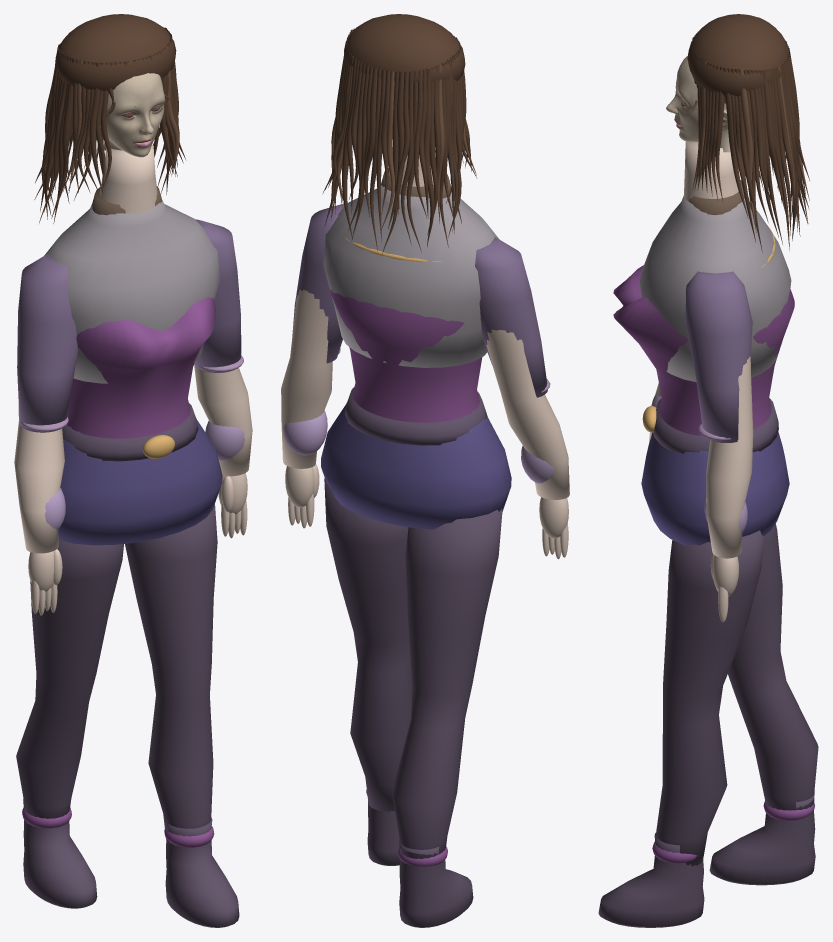
The model's file is katie_walk_1.glb.
3 renders of one model, left to right at view 1: azimuth 30°, elevation 25°; view 2: azimuth 150°, elevation 25°; view 3: azimuth 270°, elevation 25°, orthographic.
Visible parts, largest first — view 1: Continuous trouser leg.001, Katie linen underlayer, Continuous trouser leg, Violet sweetheart bodice, Fitted hip panel, Katie smooth sleeve, Katie hair locks, Katie hair crown, Fitted boot.001, Continuous arm, Fitted boot, Katie smooth sleeve.001 (+13 smaller); view 2: Continuous trouser leg, Katie linen underlayer, Katie hair locks, Continuous trouser leg.001, Fitted hip panel, Violet sweetheart bodice, Continuous arm, Katie hair crown, Katie smooth sleeve, Continuous arm.001, Fitted boot, Waist belt (+7 smaller); view 3: Continuous trouser leg.001, Katie linen underlayer, Continuous trouser leg, Katie hair locks, Fitted hip panel, Katie smooth sleeve.001, Violet sweetheart bodice, Katie hair crown, Fitted boot.001, Fitted boot, Continuous arm.001, Imported Katie katie (+6 smaller).
Part boxes in pixels (left/top/right/bottom): Continuous trouser leg.001: left=125, top=504, right=217, bottom=840; Katie linen underlayer: left=44, top=200, right=219, bottom=383; Continuous trouser leg: left=16, top=540, right=123, bottom=818; Violet sweetheart bodice: left=67, top=297, right=215, bottom=438; Fitted hip panel: left=58, top=418, right=222, bottom=545; Katie smooth sleeve: left=17, top=253, right=77, bottom=432; Katie hair locks: left=34, top=29, right=186, bottom=223; Katie hair crown: left=55, top=14, right=176, bottom=91; Fitted boot.001: left=165, top=817, right=239, bottom=927; Continuous arm: left=14, top=406, right=64, bottom=553; Fitted boot: left=23, top=800, right=97, bottom=908; Katie smooth sleeve.001: left=194, top=219, right=241, bottom=372; Continuous trouser leg: left=392, top=509, right=502, bottom=866; Katie linen underlayer: left=323, top=183, right=499, bottom=367; Katie hair locks: left=322, top=27, right=477, bottom=255; Continuous trouser leg.001: left=324, top=478, right=412, bottom=811; Fitted hip panel: left=321, top=403, right=511, bottom=529; Violet sweetheart bodice: left=330, top=289, right=482, bottom=422; Continuous arm: left=486, top=329, right=569, bottom=499; Katie hair crown: left=344, top=14, right=465, bottom=84; Katie smooth sleeve: left=475, top=237, right=547, bottom=397; Continuous arm.001: left=281, top=289, right=332, bottom=468; Fitted boot: left=399, top=840, right=473, bottom=927; Waist belt: left=345, top=387, right=487, bottom=445; Continuous trouser leg.001: left=656, top=530, right=764, bottom=866; Katie linen underlayer: left=639, top=196, right=791, bottom=382; Continuous trouser leg: left=728, top=523, right=818, bottom=810; Katie hair locks: left=690, top=31, right=809, bottom=252; Fitted hip panel: left=641, top=431, right=789, bottom=545; Katie smooth sleeve.001: left=685, top=271, right=752, bottom=442; Violet sweetheart bodice: left=613, top=265, right=794, bottom=436; Katie hair crown: left=687, top=14, right=789, bottom=103; Fitted boot.001: left=598, top=832, right=704, bottom=927; Fitted boot: left=709, top=793, right=815, bottom=885; Continuous arm.001: left=706, top=356, right=753, bottom=558; Imported Katie katie: left=666, top=56, right=730, bottom=152.
Size of the model in its own units: 0.6866 by 2.23 by 0.5105.
Materials: 15 (2 with a texture image).
